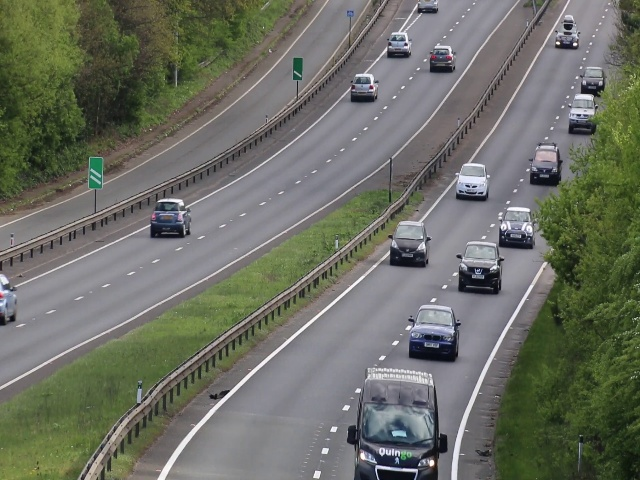car: (354, 379, 440, 480), (409, 303, 458, 358), (459, 240, 501, 292), (389, 222, 429, 268), (148, 197, 192, 238), (500, 208, 535, 245), (454, 160, 487, 198), (531, 148, 560, 184), (350, 72, 378, 103), (569, 99, 594, 133), (429, 45, 457, 75), (384, 28, 412, 58), (552, 23, 583, 50), (579, 67, 605, 92)
